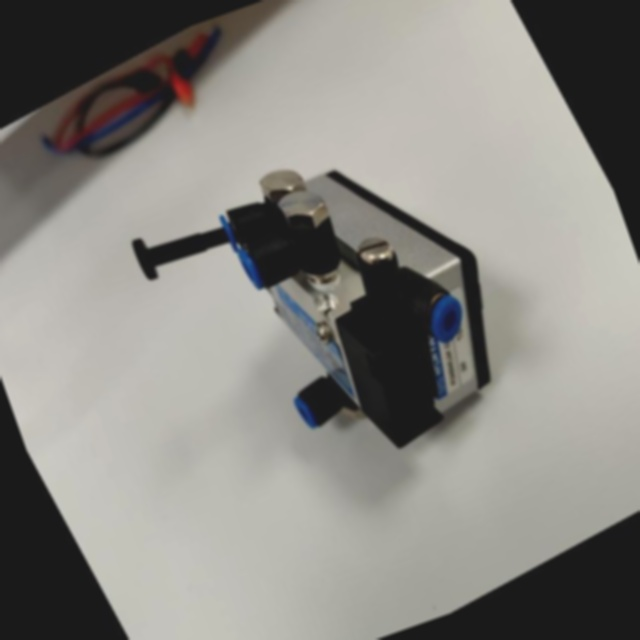5by2 DCV: (98, 74, 565, 550)
